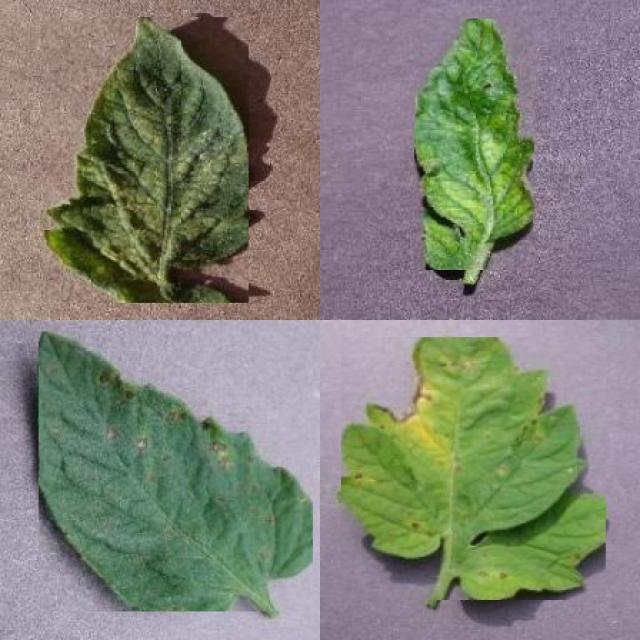Mosaic Virus: (415, 19, 535, 270)
Septoria: (38, 332, 313, 612), (340, 337, 606, 600)
Spider Mites: (43, 17, 248, 303)
